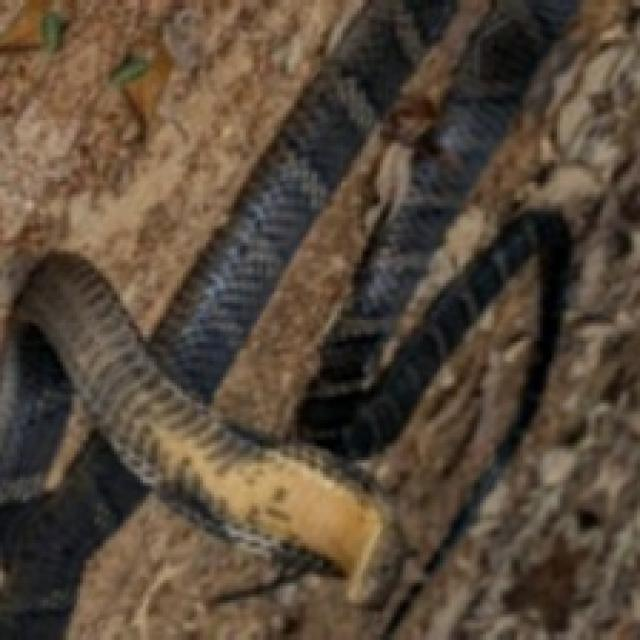king cobra: (80, 500, 246, 637)
